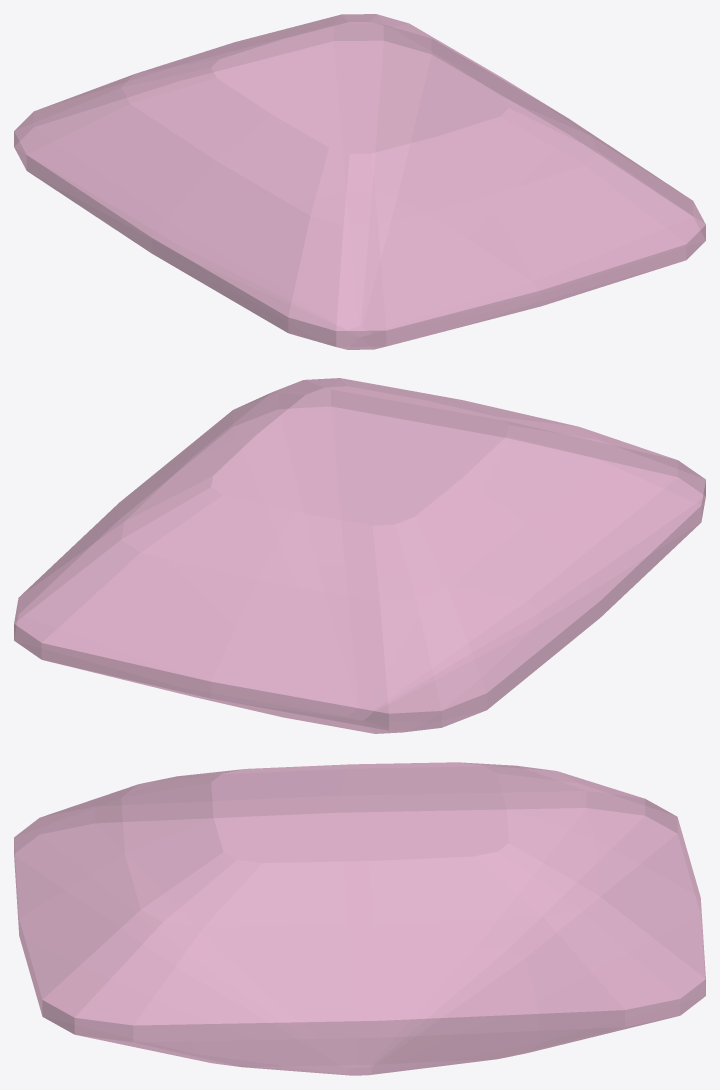
The model's file is stone-kunzite.glb.
3 renders of one model, top to bottom at view 1: azimuth 30°, elevation 25°; view 2: azimuth 150°, elevation 25°; view 3: azimuth 270°, elevation 25°, orthographic. The views are drawn at different scales.
Parts seen in each view (by area): view 1: Sculpture; view 2: Sculpture; view 3: Sculpture.
Boxes of the visible parts, x1,y1,x2,y2 form: Sculpture: (14,14,705,349); Sculpture: (14,378,705,733); Sculpture: (14,762,705,1075).
Bounding box in the file's own units: 2.08 × 1.07 × 2.59.
